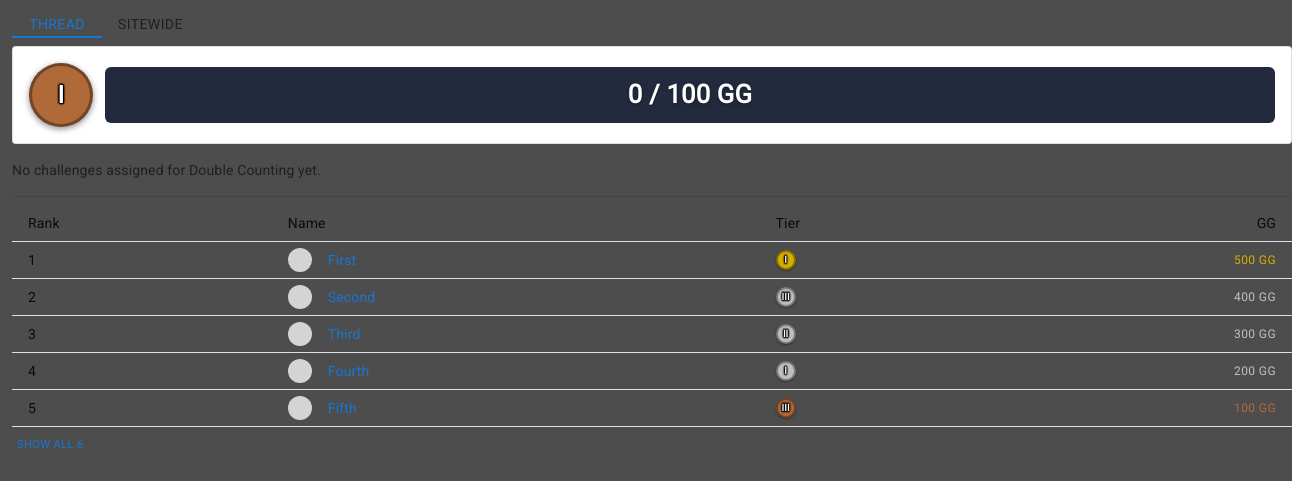
Test: RankTabPanel › shows a collapsed top-5 leaderboard under the thread rank card, expandable
Expected: the link "First" is shown, [328,252,356,268]
Expected: the link "Fifth" is shown, [328,400,357,416]
Click the button "Show all 6" at (50, 444), box [12,430,89,458]
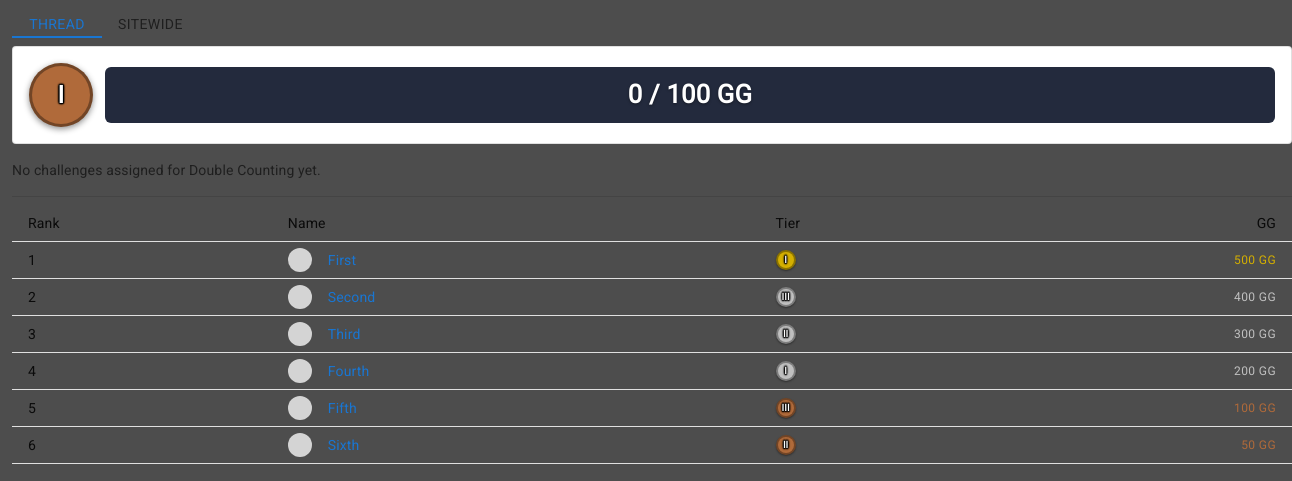
Expected: the link "Sixth" is shown, [328,436,360,452]
